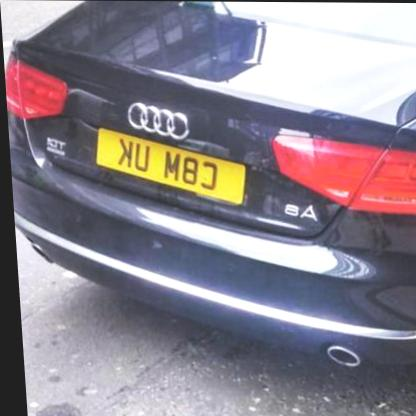License_Plate: (90, 129, 249, 206)
